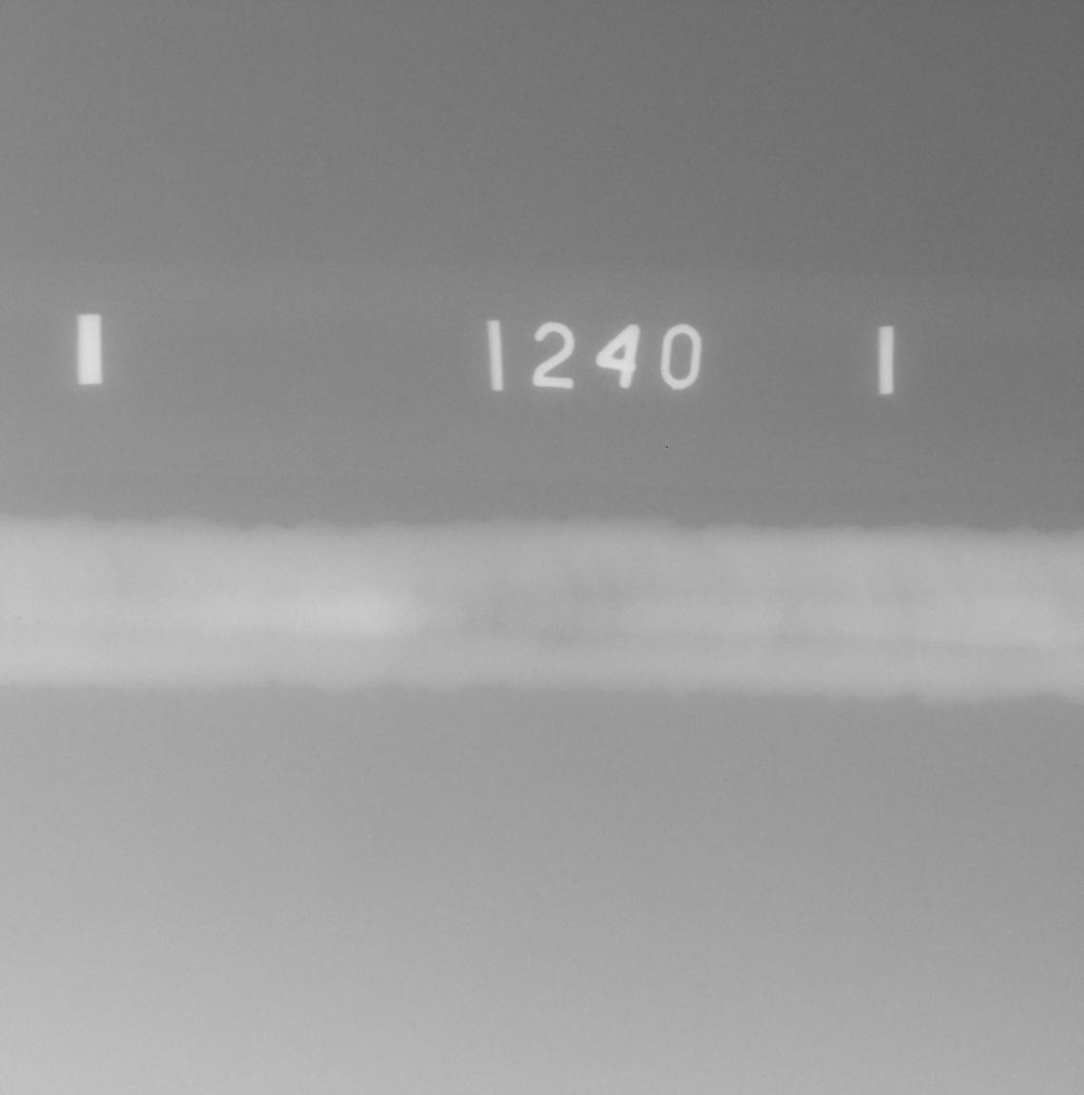Pore/Porosity: (16, 616, 22, 620), (182, 580, 188, 584), (1011, 620, 1016, 623)
